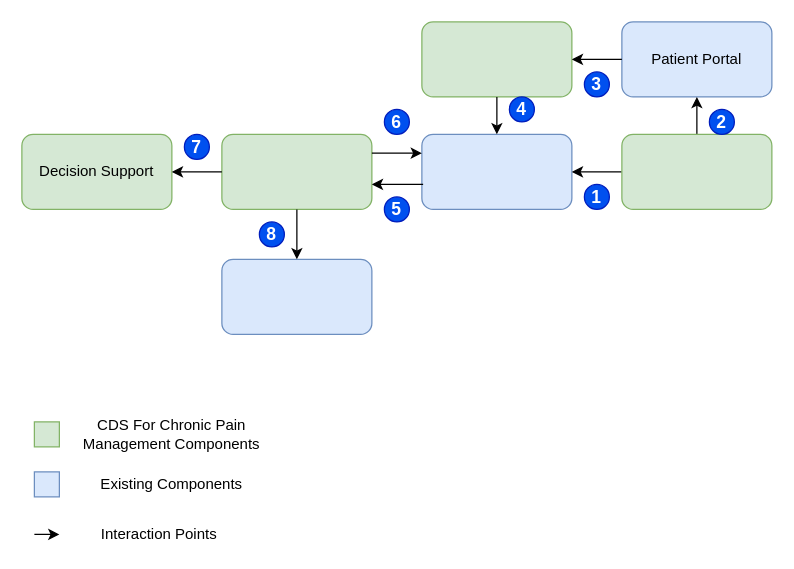
This 794x569 diagram has some shape labels left out. The centre of each missing label's shape, as x and y in pixels:
Clinical System: the point at 496,171
MyPain: the point at 496,59
PainManager: the point at 296,171
PDMP: the point at 296,296
Phenotype/Trigger: the point at 696,171
